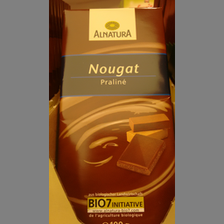chocolate: (56, 7, 174, 222)
